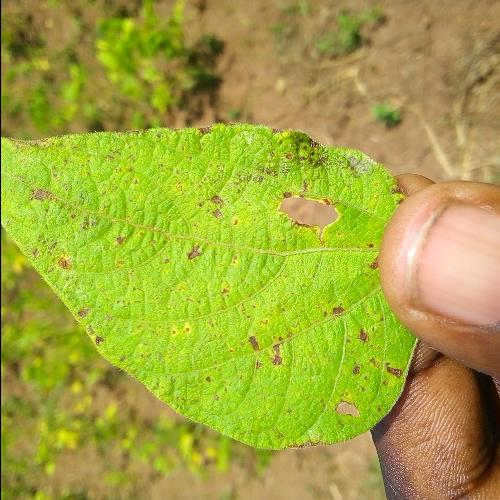hawar: (250, 172, 362, 240), (241, 0, 242, 1)
